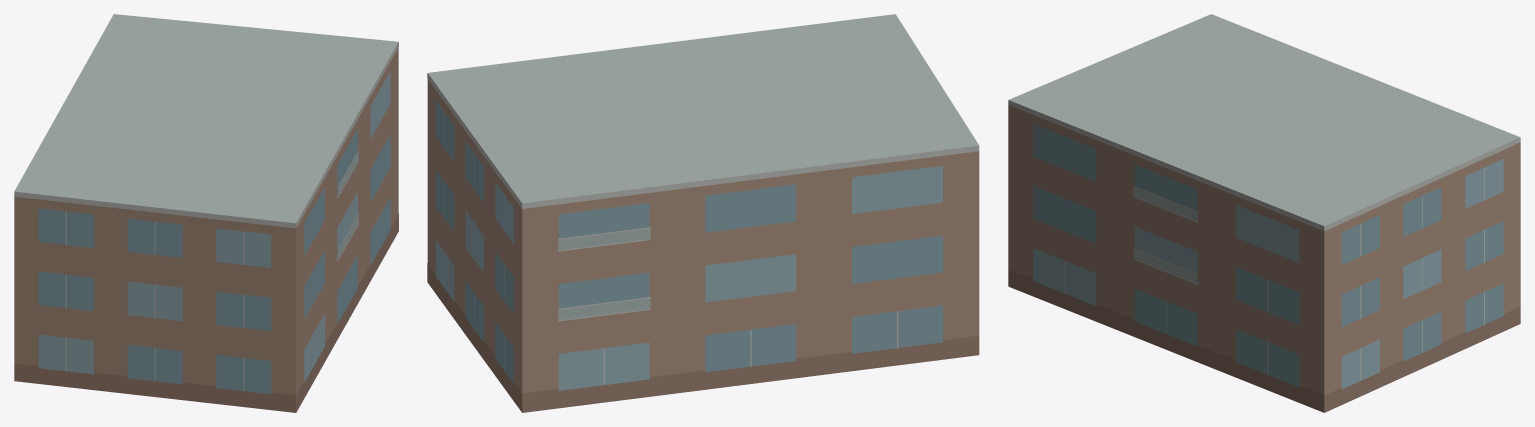
File: survey-upis-32993468.glb
The picture shows the model from 3 angles, left to right: view 1: azimuth 30°, elevation 25°; view 2: azimuth 150°, elevation 25°; view 3: azimuth 270°, elevation 25°; orthographic projection. The views are drawn at different scales.
Visible parts, largest first — view 1: survey-upis-32993468.tmp; view 2: survey-upis-32993468.tmp; view 3: survey-upis-32993468.tmp.
Boxes of the visible parts, x1,y1,x2,y2 form: survey-upis-32993468.tmp: (14,14,398,412); survey-upis-32993468.tmp: (427,14,979,412); survey-upis-32993468.tmp: (1008,14,1520,412).
Bounding box in the file's own units: 22.34 × 9.15 × 22.77.
